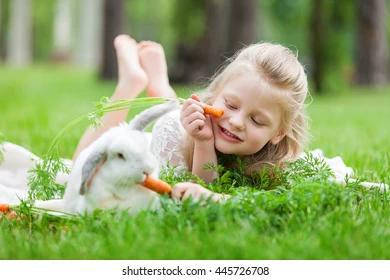child: (86, 31, 345, 194)
